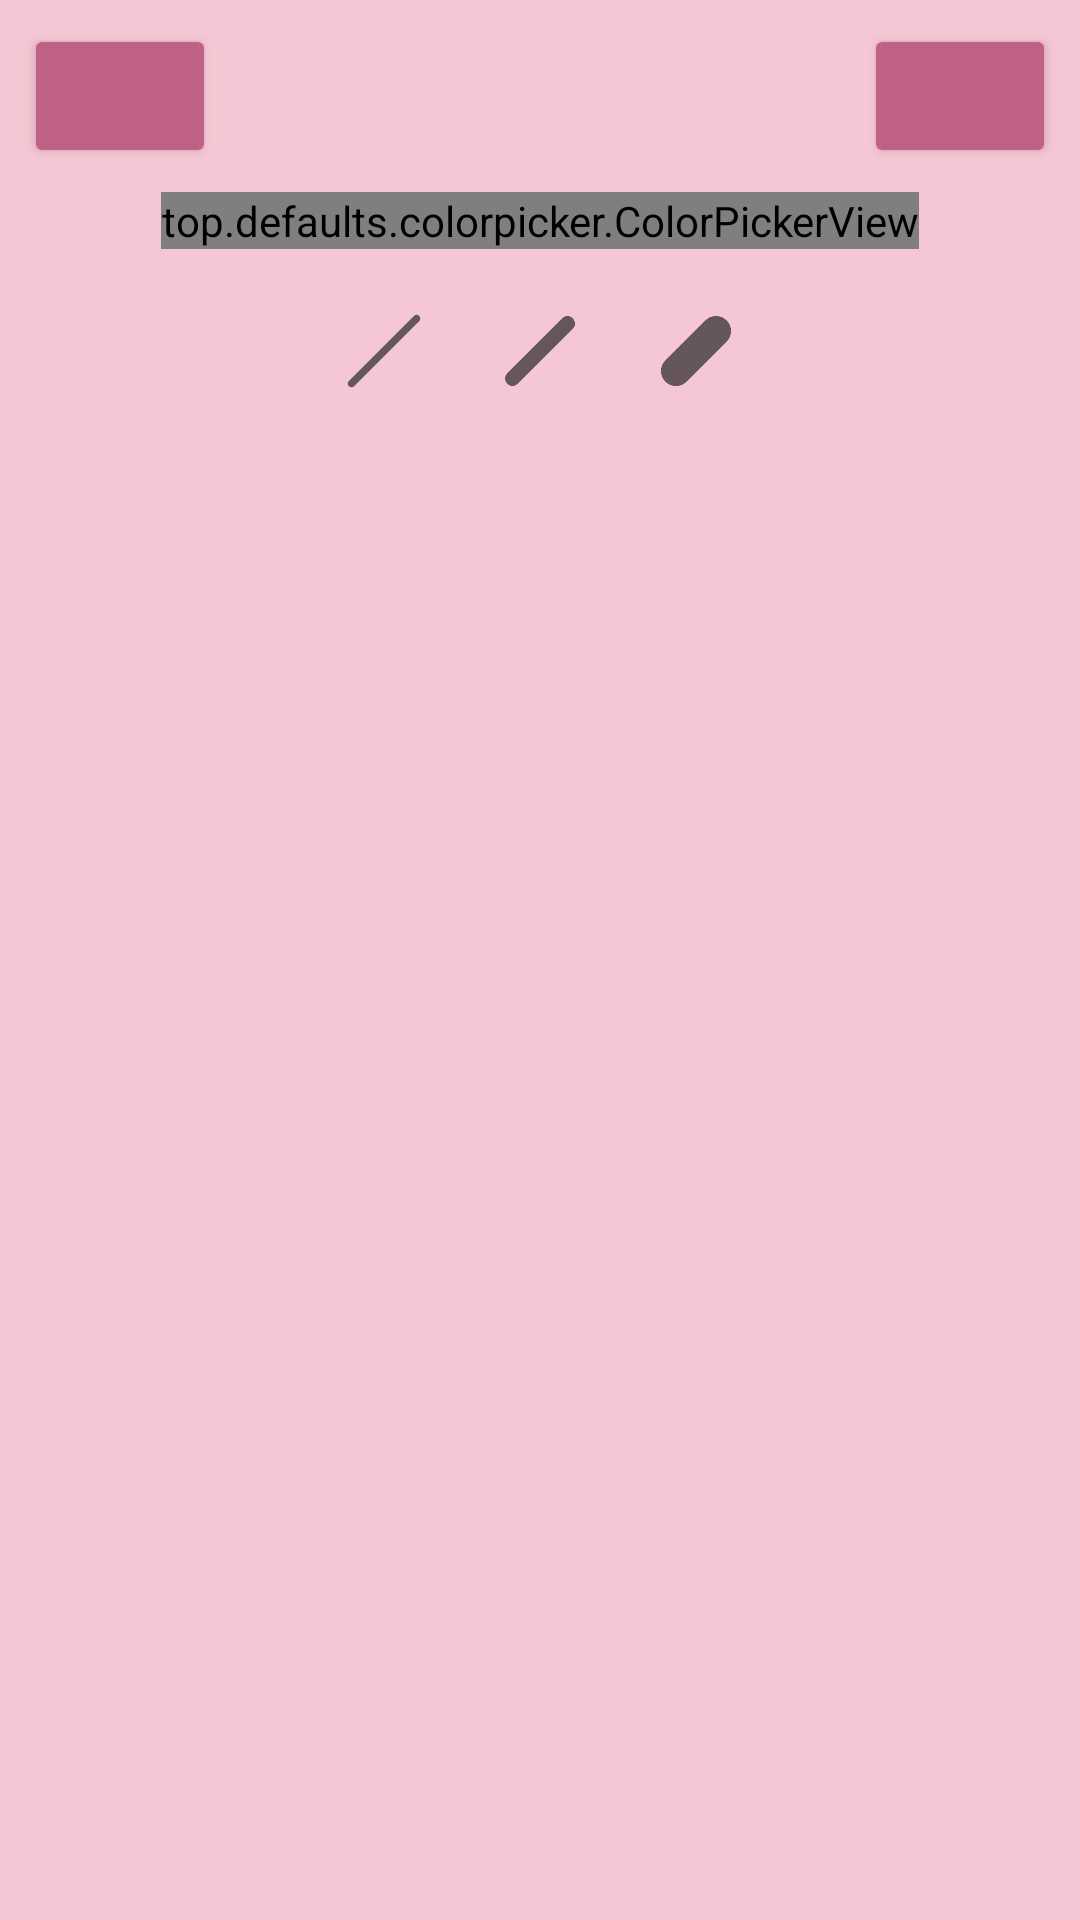

Where icons sit on this 1080px x 1920px app screen, as (x1, y1, x2, y2):
pen size: (347, 314, 421, 388), (505, 316, 575, 386), (661, 316, 731, 386)
